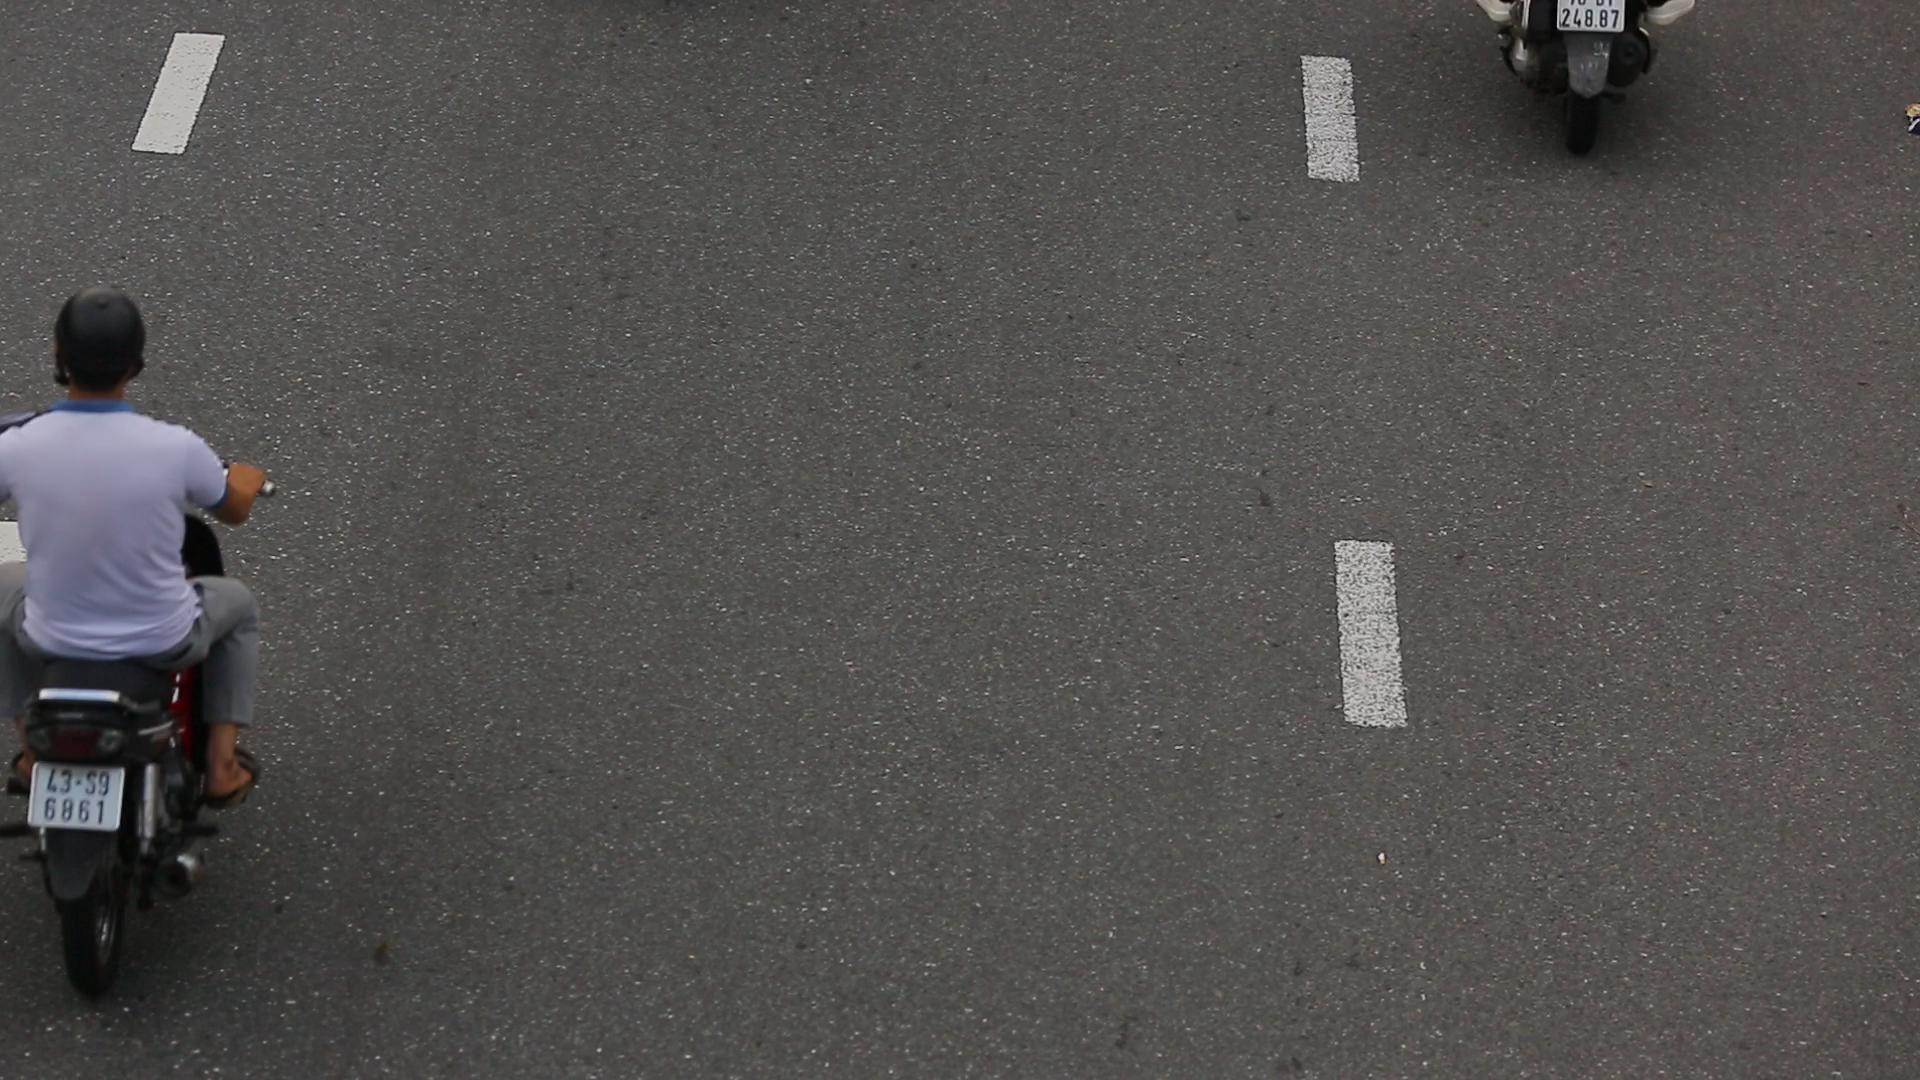motobike: (0, 247, 274, 996)
